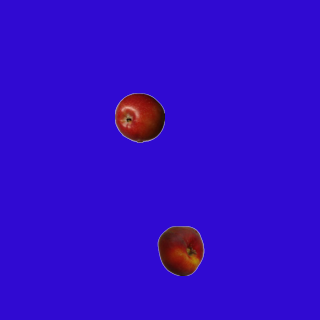Apple Braeburn: (114, 92, 164, 142)
Nectarine Flat: (155, 225, 205, 275)
